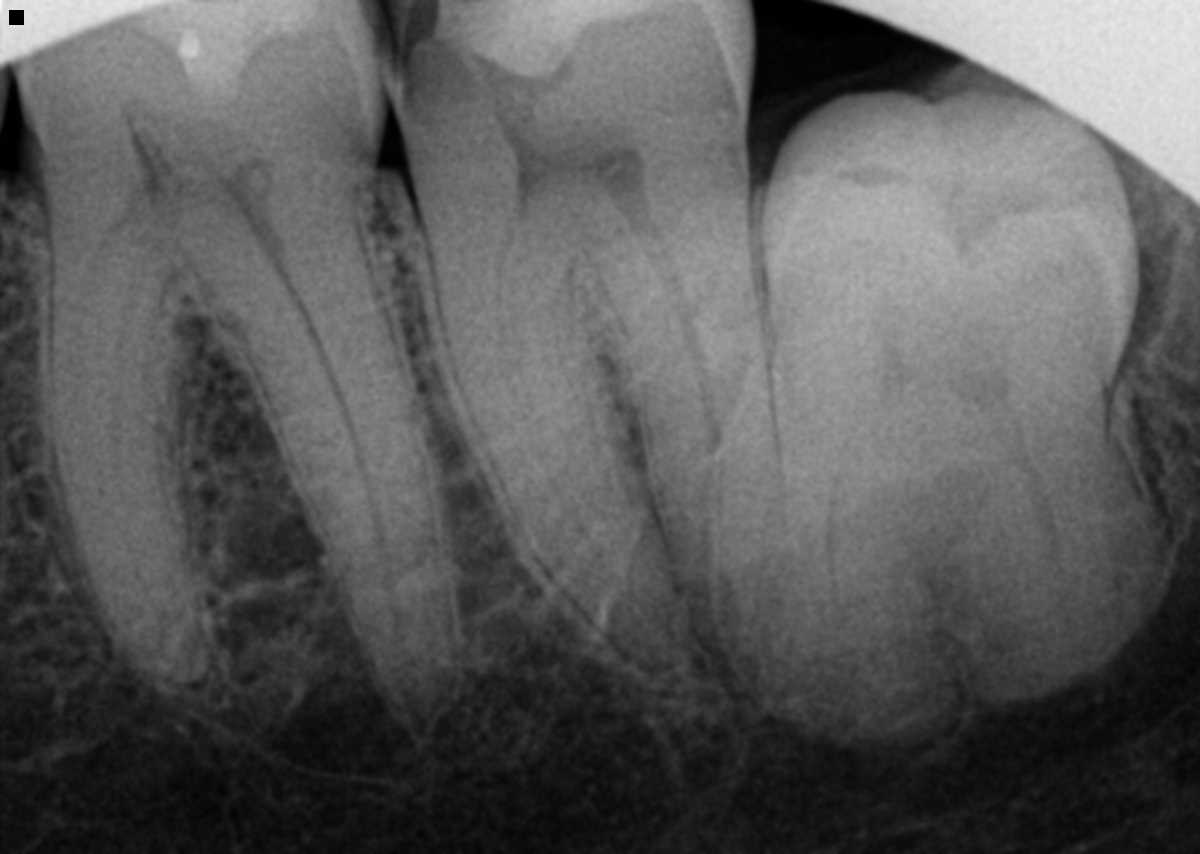Distal Canal: (271, 244, 414, 691), (640, 221, 725, 471)
Distal Root: (178, 195, 457, 737), (610, 221, 835, 684)
Mesial Canal: (496, 204, 606, 569), (104, 255, 170, 651)
Mesial Root: (414, 186, 718, 704), (42, 236, 228, 713)
decay: (113, 104, 275, 249), (381, 0, 542, 119)
